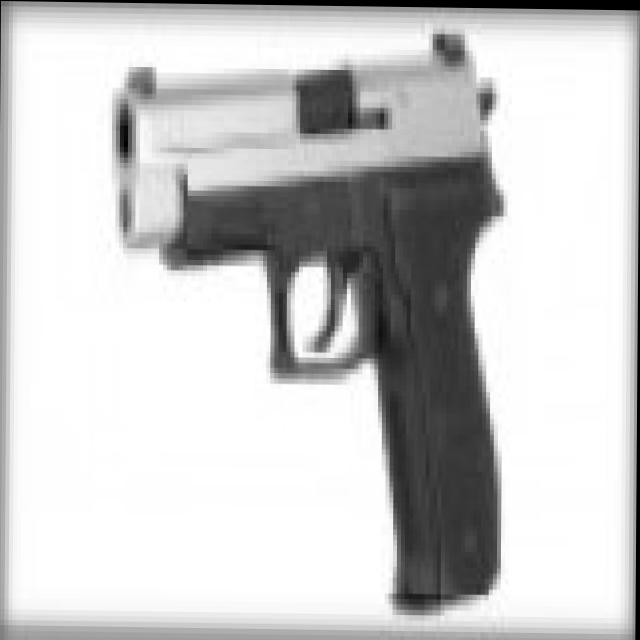handgun: (120, 18, 512, 608)
